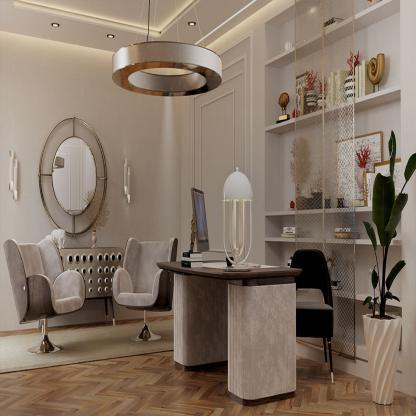chair: (0, 219, 91, 369), (112, 227, 183, 346), (296, 240, 347, 384)
door: (191, 59, 247, 262)
light: (109, 0, 226, 103), (4, 139, 28, 211), (122, 147, 139, 208)
table: (152, 262, 301, 408)
